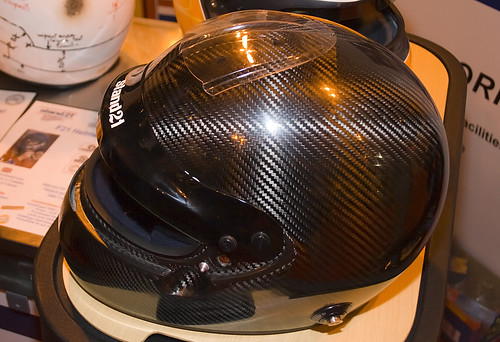helmet: (42, 12, 455, 334)
